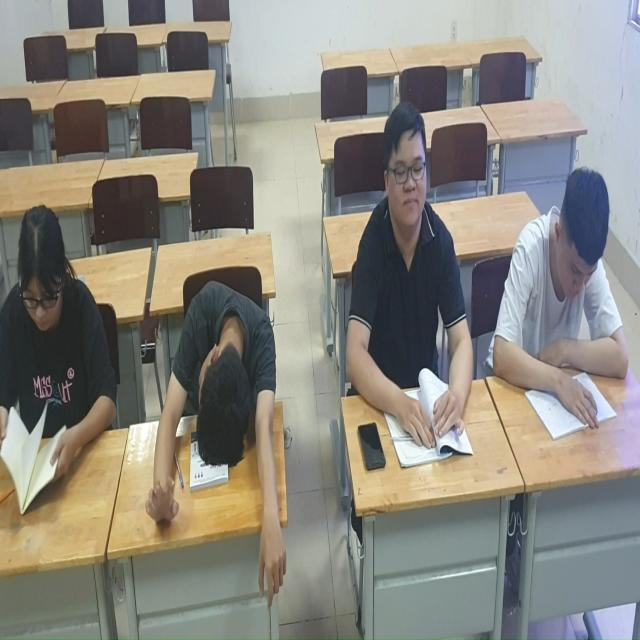sleep: (150, 283, 288, 602)
study: (338, 110, 475, 445), (495, 170, 630, 433), (3, 205, 120, 507)
